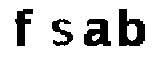a: (82, 13, 113, 49)
b: (116, 5, 149, 51)
f: (12, 6, 36, 50)
s: (48, 14, 76, 50)
